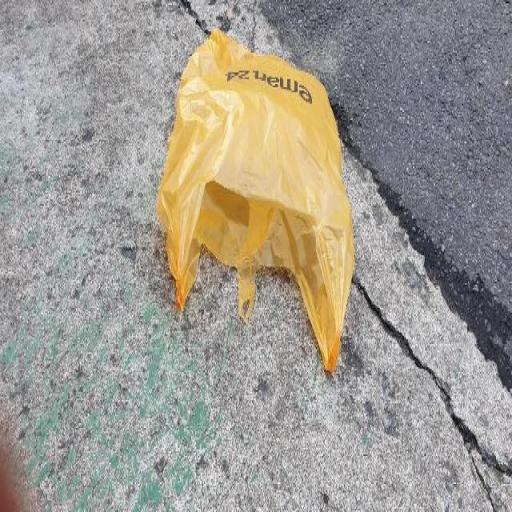plastic-bag: (156, 26, 356, 378)
